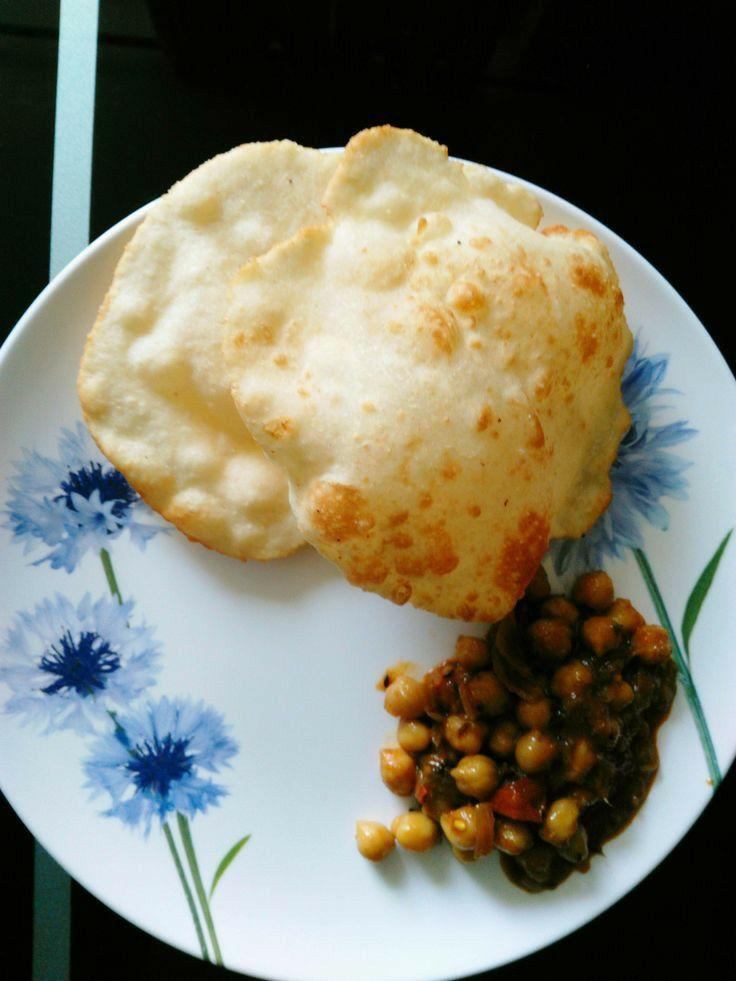chole: (325, 633, 663, 885)
puri: (130, 186, 615, 570)
